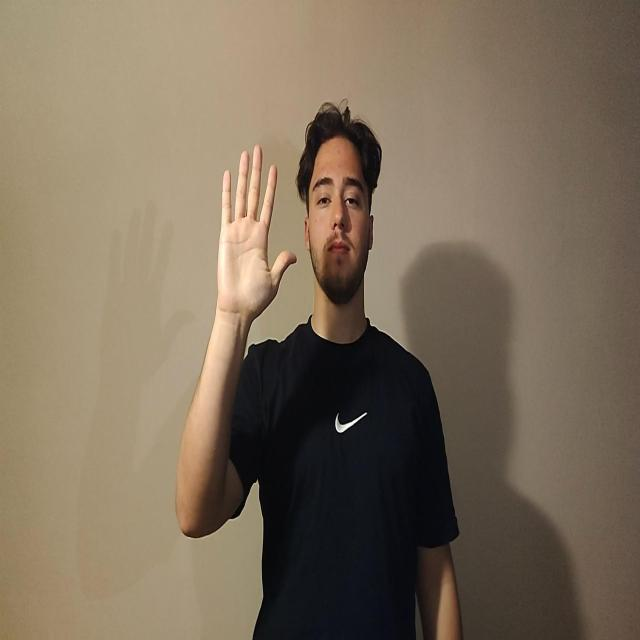hello: (216, 143, 297, 323)
